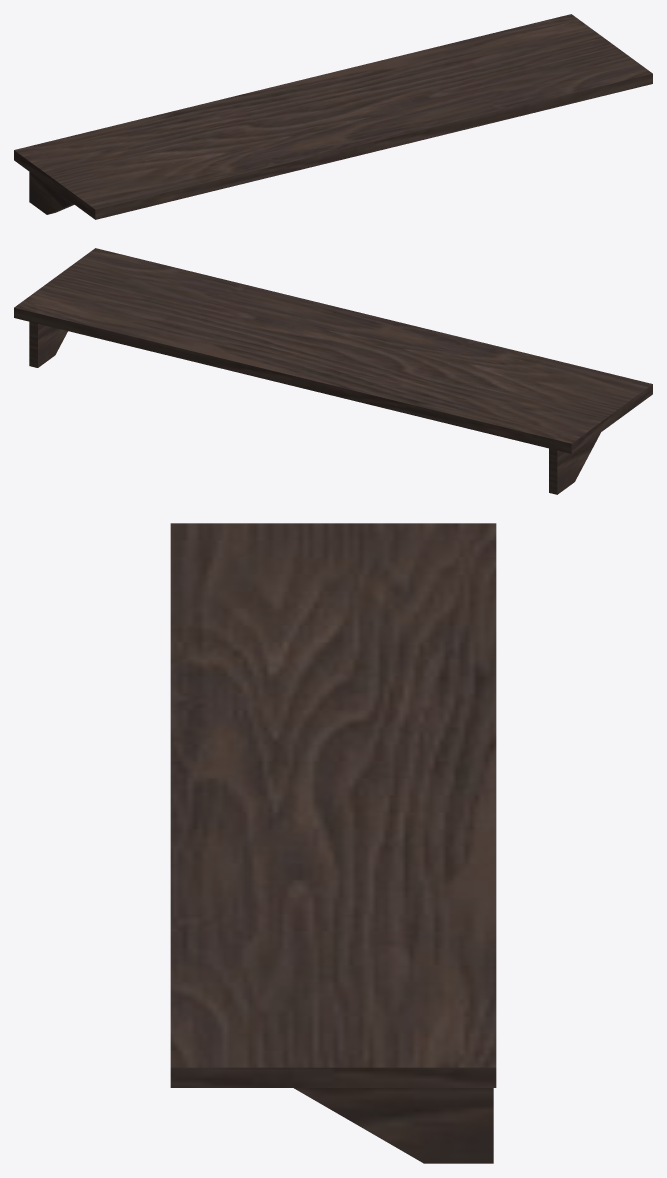
File: WoodenShelfBig.glb
The picture shows the model from 3 angles, top to bottom: view 1: azimuth 30°, elevation 25°; view 2: azimuth 150°, elevation 25°; view 3: azimuth 270°, elevation 25°; orthographic projection. The views are drawn at different scales.
Visible parts, largest first — view 1: Rack; view 2: Rack; view 3: Rack.
Boxes of the visible parts, x1,y1,x2,y2 form: Rack: (14,14,652,219); Rack: (14,248,652,494); Rack: (170,523,496,1163).
Bounding box in the file's own units: 2.98 × 0.2825 × 0.7545.
Materials: 1 (1 with a texture image).
